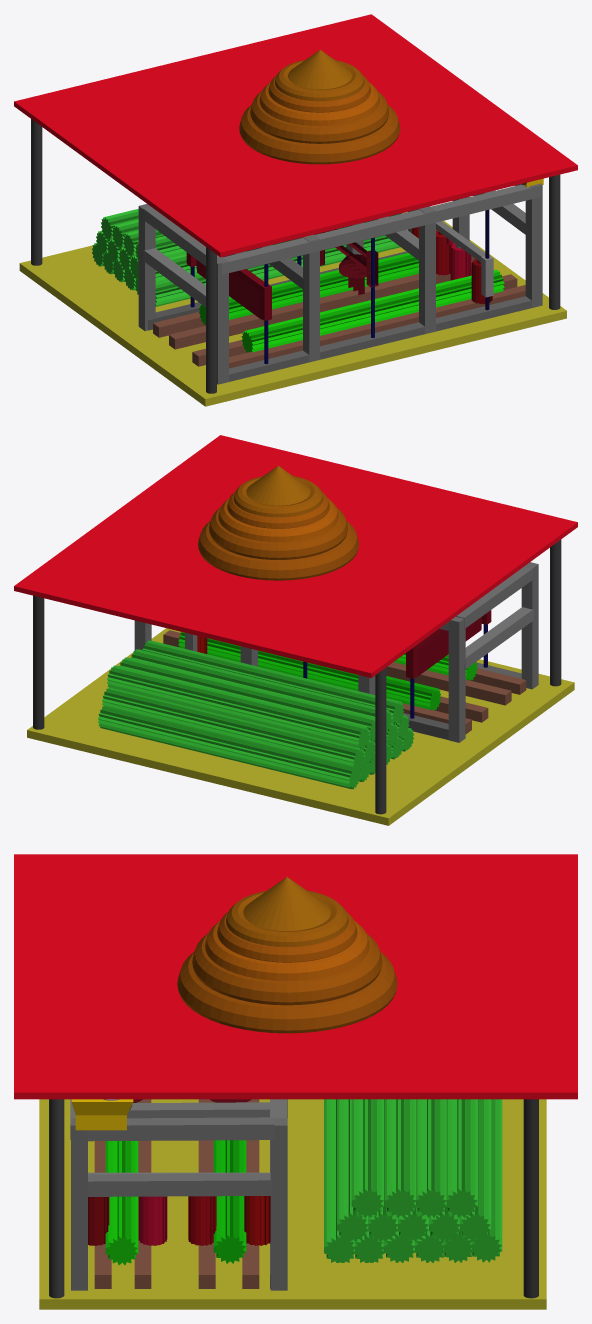
The model's file is Кактусопилка.fbx.
3 renders of one model, top to bottom at view 1: azimuth 30°, elevation 25°; view 2: azimuth 150°, elevation 25°; view 3: azimuth 270°, elevation 25°, orthographic. The views are drawn at different scales.
Visible parts, largest first — view 1: Cube; view 2: Cube; view 3: Cube.
Part boxes in pixels (<box>): Cube: <box>14,14,577,406</box>; Cube: <box>14,435,577,825</box>; Cube: <box>14,854,577,1309</box>.
Size of the model in its own units: 3459 by 2189 by 3404.
